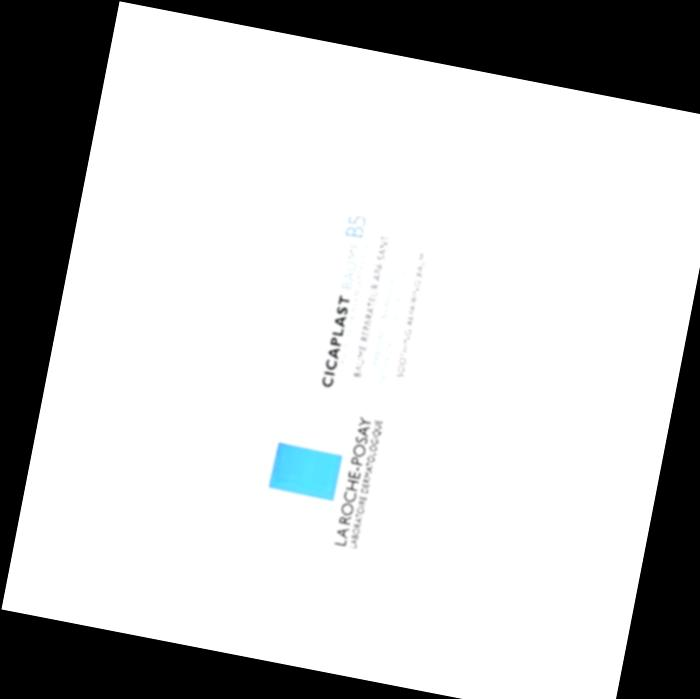cosmetic: (199, 78, 522, 633)
